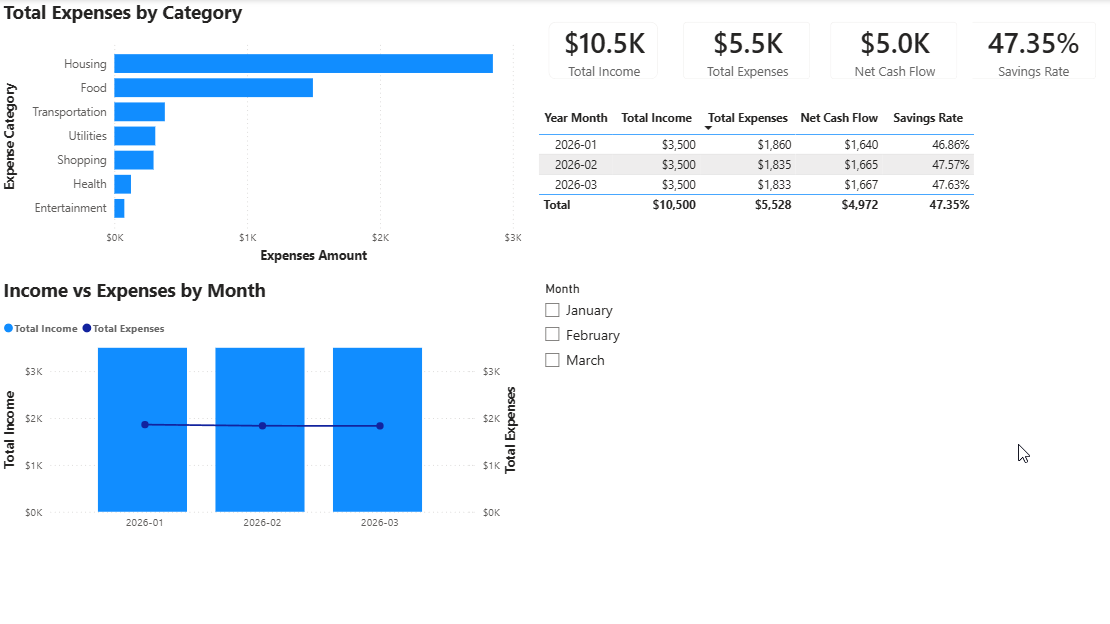

Layout of this report page (visuals, bound fields, positions):
{"tool":"powerbi","page":{"name":"Financial Overview","canvas":[1280,720],"ordinal":0},"visuals":[{"type":"clusteredBarChart","fields":{"Category":["tblTransactions.Category"],"Y":["tblTransactions.Total Expenses"]},"box":[0,0,606,309],"z":0},{"type":"lineClusteredColumnComboChart","title":"Income vs Expenses by Month","fields":{"Y":["tblTransactions.Total Income"],"Y2":["tblTransactions.Total Expenses"],"Category":["DimDate.Year Month"]},"box":[0,319.1,606,300],"z":1000},{"type":"tableEx","fields":{"Values":["DimDate.Year Month","tblTransactions.Total Income","tblTransactions.Total Expenses","tblTransactions.Net Cash Flow","tblTransactions.Savings Rate"]},"box":[616,120,515,150],"z":2000},{"type":"cardVisual","fields":{"Data":["tblTransactions.Total Income"]},"box":[616,10,160,100],"z":3000},{"type":"cardVisual","fields":{"Data":["tblTransactions.Total Expenses"]},"box":[770,10,180,100],"z":4000},{"type":"cardVisual","fields":{"Data":["tblTransactions.Savings Rate"]},"box":[1100,10,180,100],"z":5000},{"type":"cardVisual","fields":{"Data":["tblTransactions.Net Cash Flow"]},"box":[940,10,180,100],"z":6000},{"type":"slicer","fields":{"Values":["DimDate.Month Name"]},"box":[616,319,515,300],"z":7000}]}

Visuals, with their boxes in screenshot pixels (x1, y1, x2, y2), scaled from the page's 1280x720 canvas onto the 1110x624 screenshot:
clusteredBarChart - tblTransactions.Category x tblTransactions.Total Expenses: 0 0 526 268
"Income vs Expenses by Month" lineClusteredColumnComboChart: 0 277 526 537
tableEx - DimDate.Year Month x tblTransactions.Total Income: 534 104 981 234
cardVisual - tblTransactions.Total Income: 534 9 673 95
cardVisual - tblTransactions.Total Expenses: 668 9 824 95
cardVisual - tblTransactions.Savings Rate: 954 9 1109 95
cardVisual - tblTransactions.Net Cash Flow: 815 9 971 95
slicer - DimDate.Month Name: 534 276 981 536
